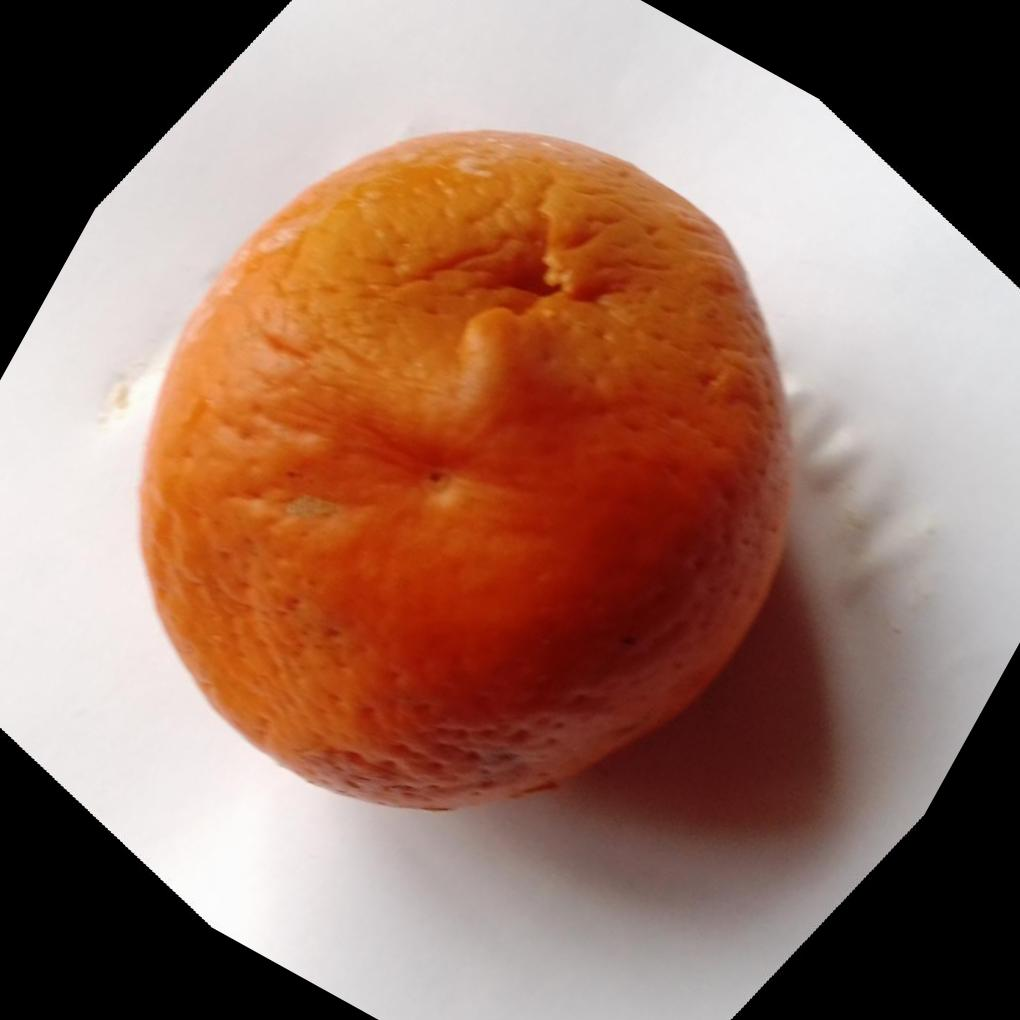FreshOrange: (137, 124, 797, 812)
